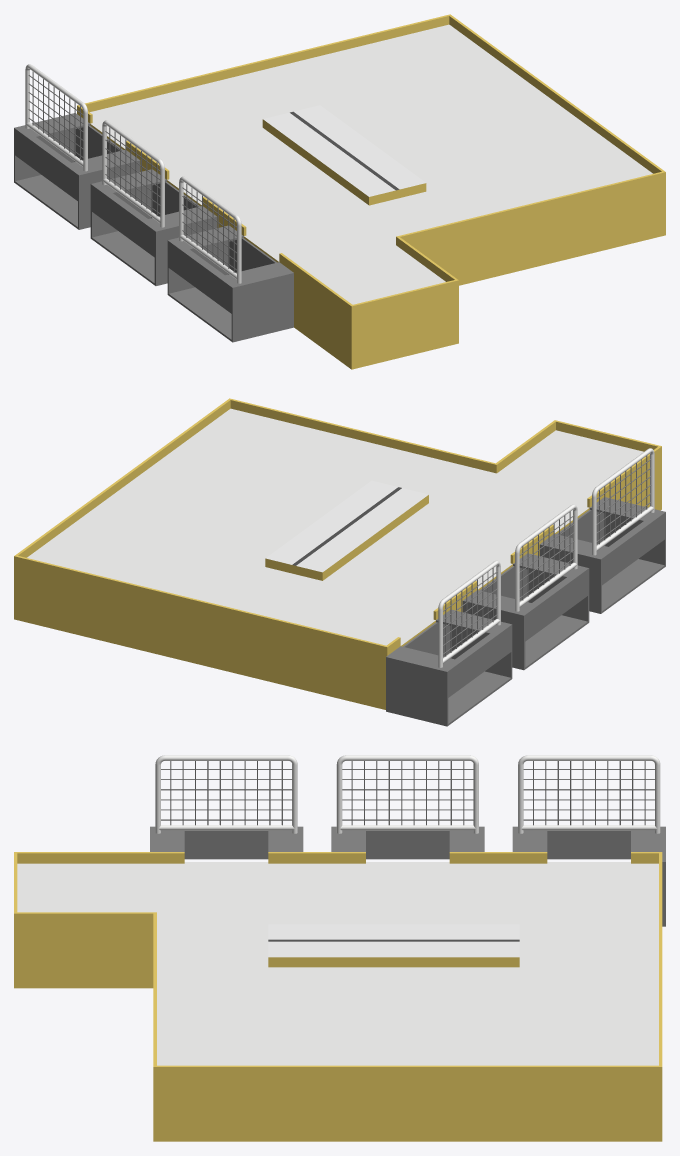
Rendered from InrofField.dae.
The picture shows the model from 3 angles, top to bottom: view 1: azimuth 30°, elevation 25°; view 2: azimuth 150°, elevation 25°; view 3: azimuth 270°, elevation 25°; orthographic projection. The views are drawn at different scales.
Visible parts, largest first — view 1: Inrofフィールド v9.001; view 2: Inrofフィールド v9.001; view 3: Inrofフィールド v9.001.
Boxes of the visible parts, left/top/right/bottom form: Inrofフィールド v9.001: left=14, top=14, right=665, bottom=369; Inrofフィールド v9.001: left=14, top=398, right=665, bottom=726; Inrofフィールド v9.001: left=14, top=755, right=665, bottom=1141.
Size of the model in its own units: 2.12 by 2.34 by 0.56.
